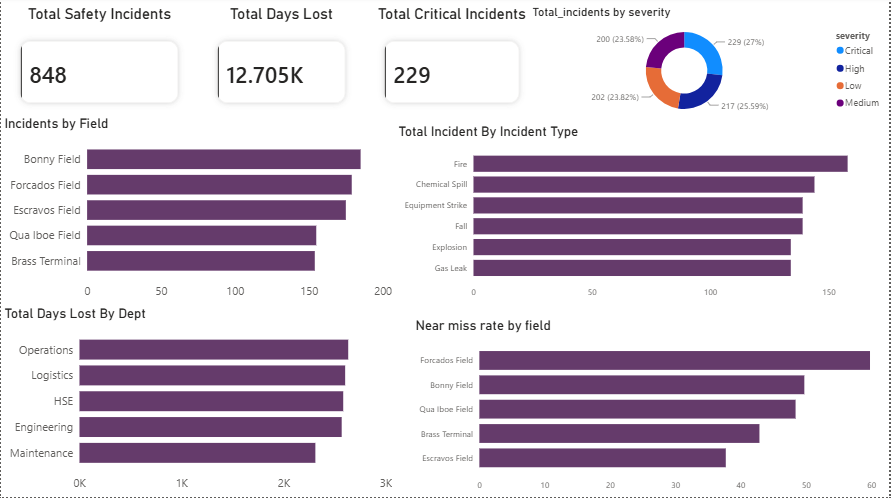

The dashboard page shown, as its layout file describes it:
{"tool":"powerbi","page":{"name":"HSE & Risk Monitoring","canvas":[1280,720],"ordinal":2},"visuals":[{"type":"cardVisual","title":"Total Safety Incidents","fields":{"Data":["Sum(gold_hse_kpis.total_incidents)"]},"box":[0,11.8,283.9,169.7],"z":0},{"type":"cardVisual","title":"Total Days Lost","fields":{"Data":["Sum(gold_hse_kpis.total_days_lost)"]},"box":[283.9,11.8,240.2,169.7],"z":1000},{"type":"cardVisual","title":"Total Critical Incidents","fields":{"Data":["Sum(gold_hse_kpis.total_critical)"]},"box":[524.1,11.8,250.3,169.7],"z":2000},{"type":"barChart","title":"Incidents by Field","fields":{"Category":["dim_field.field"],"Y":["Sum(gold_hse_kpis.total_incidents)"]},"box":[0,169.7,567.8,273.8],"z":3000},{"type":"barChart","title":" Total Days Lost By Dept","fields":{"Category":["gold_hse_by_department.department"],"Y":["Sum(gold_hse_by_department.total_days_lost)"]},"box":[0,443.5,567.8,277.2],"z":4000},{"type":"barChart","title":" Total Incident By Incident Type","fields":{"Y":["Sum(gold_hse_by_type.total_incidents)"],"Category":["gold_hse_by_type.incident_type"]},"box":[567.8,181.4,673.6,262],"z":5000},{"type":"donutChart","fields":{"Y":["Sum(gold_hse_by_severity.total_incidents)"],"Category":["gold_hse_by_severity.severity"]},"box":[760.9,11.8,519.1,169.7],"z":6000},{"type":"barChart","title":"Near miss rate by field","fields":{"Y":["Avg(gold_hse_kpis.near_miss_rate_pct)"],"Category":["dim_field.field"]},"box":[591.3,460.3,673.6,260.4],"z":7001}]}

Visuals, with their boxes in screenshot pixels (x1, y1, x2, y2), scaled from the page's 1280x720 canvas onto the 892x498 screenshot:
"Total Safety Incidents" cardVisual: (x1=0, y1=8, x2=198, y2=126)
"Total Days Lost" cardVisual: (x1=198, y1=8, x2=365, y2=126)
"Total Critical Incidents" cardVisual: (x1=365, y1=8, x2=540, y2=126)
"Incidents by Field" barChart: (x1=0, y1=117, x2=396, y2=307)
" Total Days Lost By Dept" barChart: (x1=0, y1=307, x2=396, y2=497)
" Total Incident By Incident Type" barChart: (x1=396, y1=125, x2=865, y2=307)
donutChart - Sum(gold_hse_by_severity.total_incidents) x gold_hse_by_severity.severity: (x1=530, y1=8, x2=891, y2=126)
"Near miss rate by field" barChart: (x1=412, y1=318, x2=881, y2=497)
